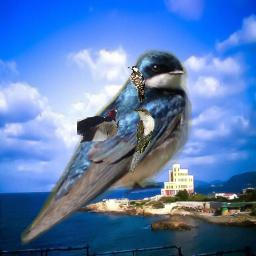Cuckoo: (129, 108, 155, 173)
Swallow: (21, 46, 193, 249)
Woodpecker: (77, 107, 123, 143), (127, 66, 145, 103)
